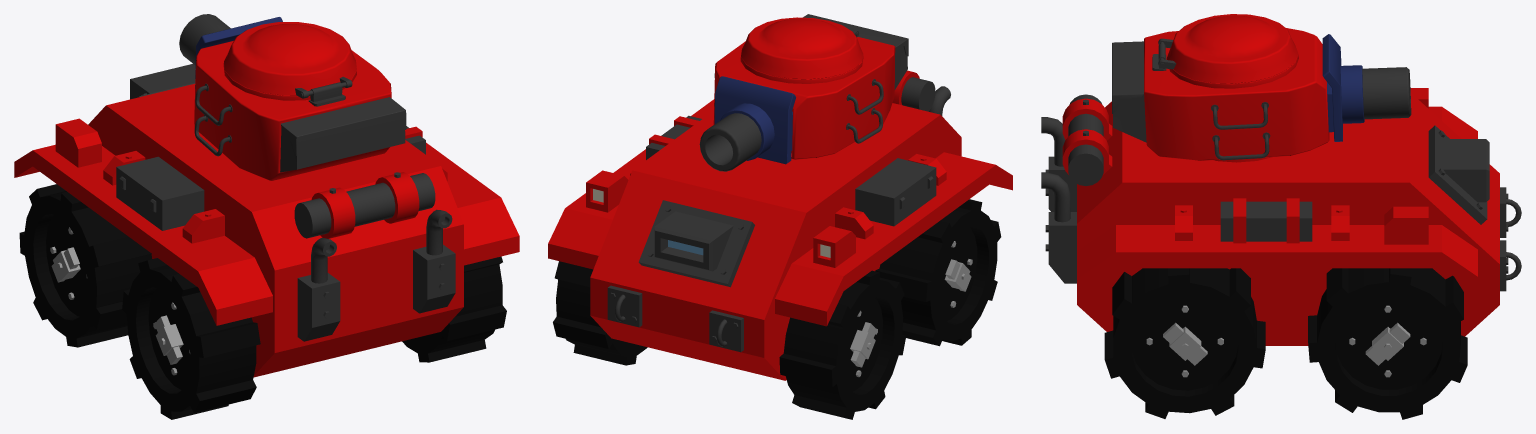
The model's file is Tank_1.fbx.
3 views of the same model, side by side, from view 1: azimuth 30°, elevation 25°; view 2: azimuth 150°, elevation 25°; view 3: azimuth 270°, elevation 25° (orthographic). The views are drawn at different scales.
Visible parts, largest first — view 1: Tank_A_Body, Tank_A_Turret, Tank_A_Wheel_R_L, Tank_A_Wheel_F_L, Tank_A_Wheel_R_R; view 2: Tank_A_Body, Tank_A_Turret, Tank_A_Wheel_F_L, Tank_A_Wheel_R_L, Tank_A_Wheel_F_R; view 3: Tank_A_Body, Tank_A_Turret, Tank_A_Wheel_R_R, Tank_A_Wheel_F_R.
Part boxes in pixels (x1,y1,x2,y2): Tank_A_Body: (14,64,519,377); Tank_A_Turret: (179,14,406,180); Tank_A_Wheel_R_L: (122,258,260,419); Tank_A_Wheel_F_L: (19,184,151,347); Tank_A_Wheel_R_R: (402,256,506,362); Tank_A_Body: (548,70,1012,380); Tank_A_Turret: (699,14,908,171); Tank_A_Wheel_F_L: (779,270,906,419); Tank_A_Wheel_R_L: (875,199,1001,346); Tank_A_Wheel_F_R: (553,261,647,365); Tank_A_Body: (1041,88,1521,345); Tank_A_Turret: (1112,14,1411,160); Tank_A_Wheel_R_R: (1104,268,1265,418); Tank_A_Wheel_F_R: (1308,268,1467,419).
Bounding box in the file's own units: 74.12 × 75.56 × 102.
